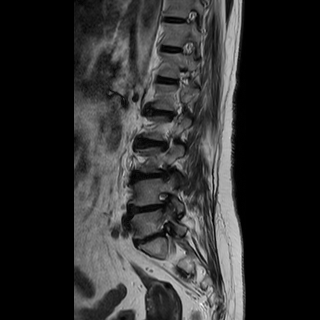LFS3: (153, 183, 174, 211)
